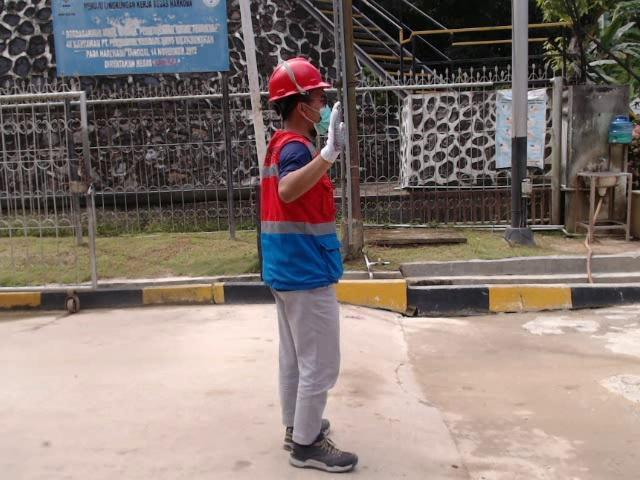helmet: (265, 54, 330, 101)
